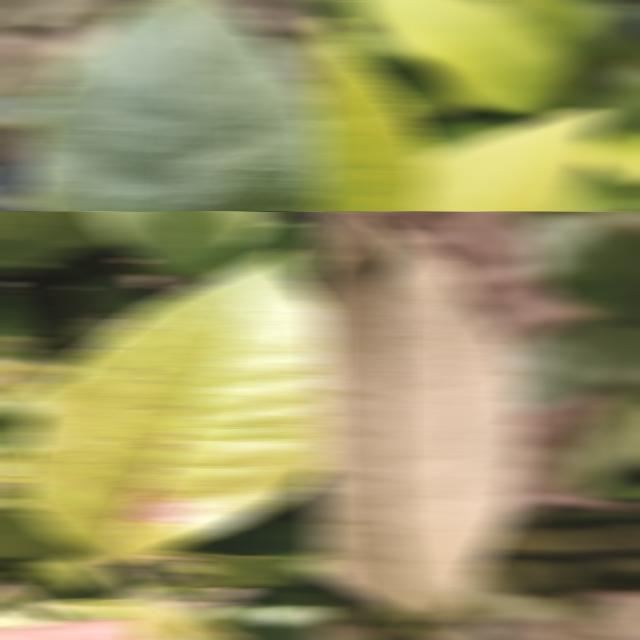Leaf: (12, 251, 328, 565), (312, 216, 530, 620), (19, 0, 328, 211), (347, 0, 574, 116), (312, 16, 431, 211), (412, 107, 605, 211), (470, 507, 640, 597), (513, 211, 640, 327), (504, 319, 640, 414), (87, 211, 275, 276), (488, 0, 609, 70), (553, 402, 640, 490), (0, 211, 119, 260), (580, 127, 640, 186), (359, 613, 459, 640), (0, 295, 31, 360), (574, 211, 640, 236)
